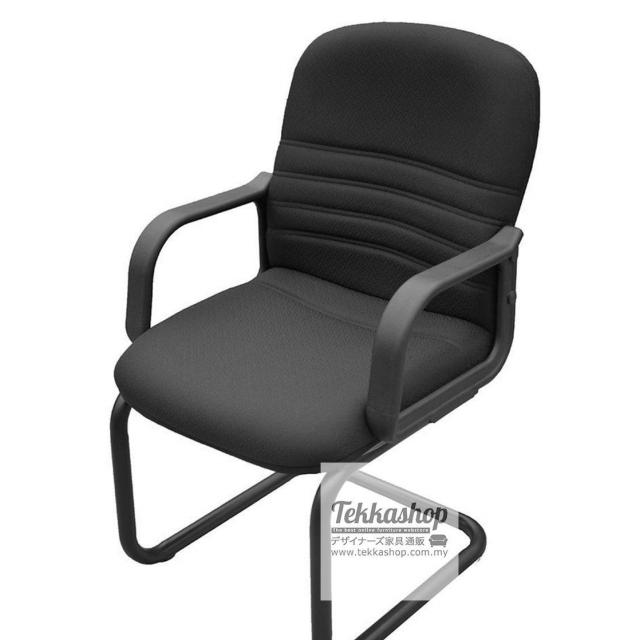Chair: (103, 17, 550, 640)
